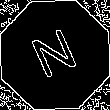N_SE: (26, 23, 84, 87)
